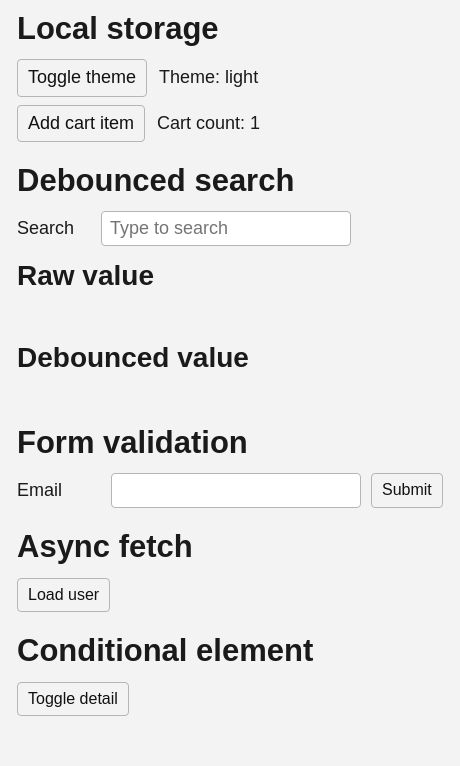
App form behavior › removes a conditional element after it disappears
Click the button "Toggle detail" at {"x": 73, "y": 699}, box [17,682,129,716]
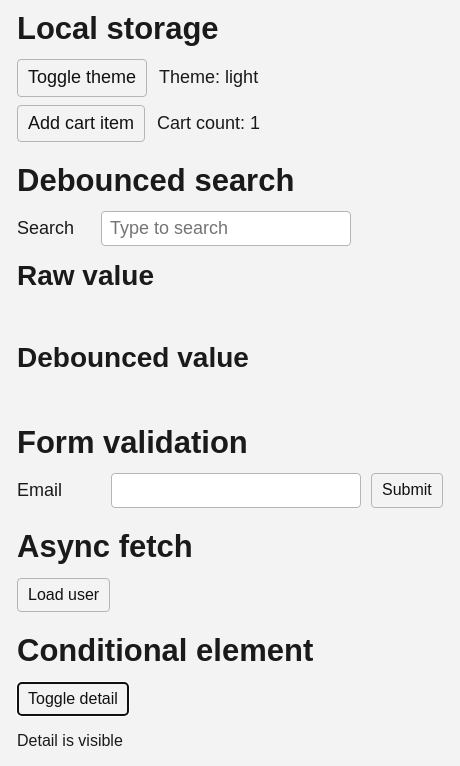
Result: the text "Detail is visible" is shown at [17,732,123,749]
Click the button "Toggle detail" at {"x": 73, "y": 699}, box [17,682,129,716]
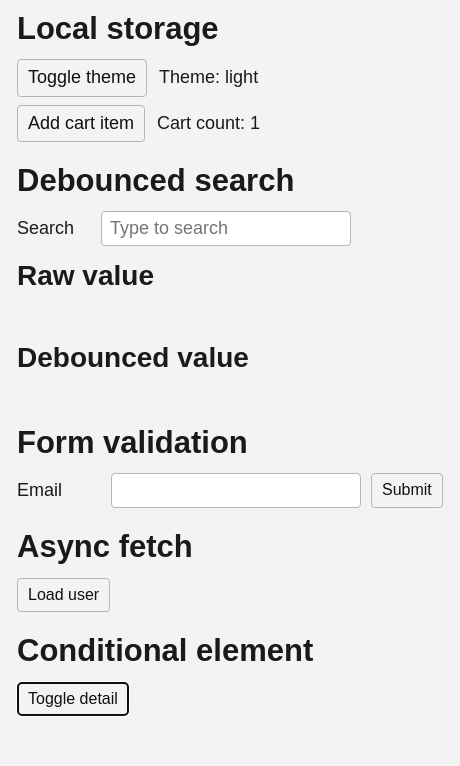
Result: the text "Detail is visible" is gone
